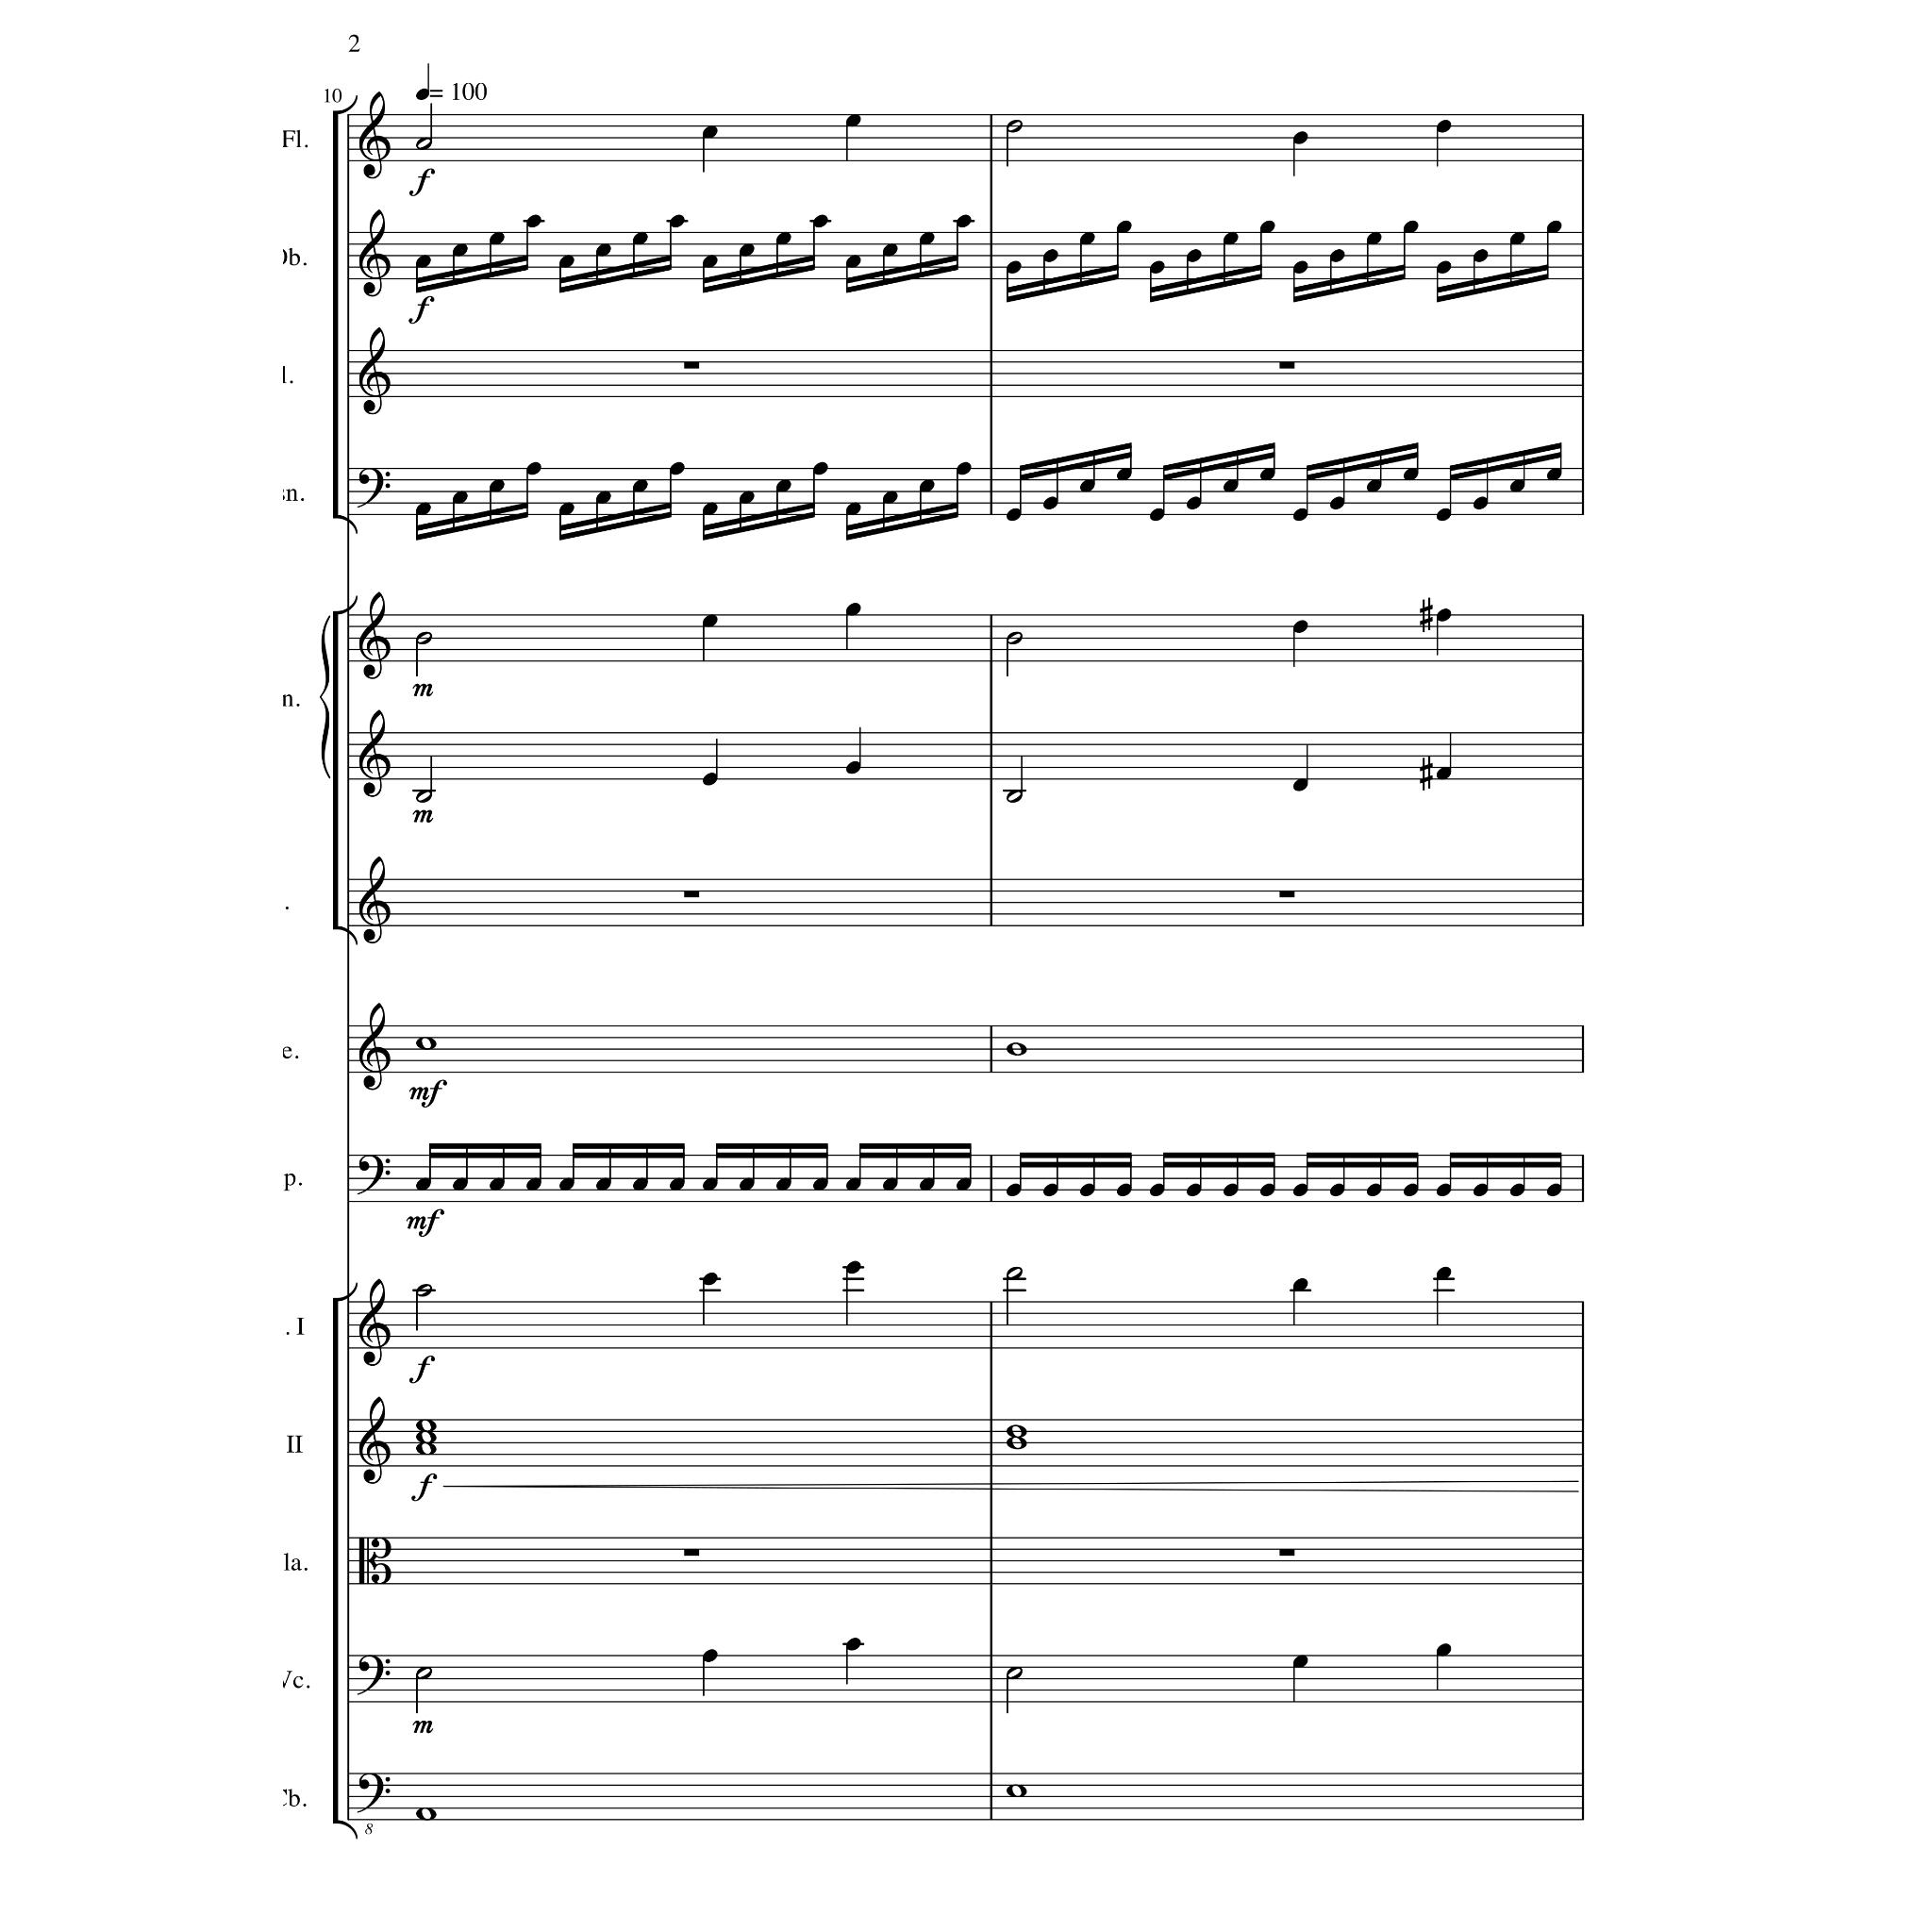brace: (318, 616, 331, 778)
fClef: (357, 467, 391, 508), (357, 1773, 391, 1813), (357, 1155, 391, 1196), (357, 1656, 391, 1695)
gClef: (359, 1277, 391, 1368), (359, 327, 391, 416), (359, 209, 391, 297), (359, 90, 391, 179), (359, 1003, 391, 1092), (359, 709, 391, 798), (359, 591, 391, 679), (359, 1396, 391, 1484), (359, 856, 391, 943)
noteheadBlack: (1185, 249, 1201, 264), (1185, 497, 1201, 511), (1185, 1184, 1201, 1198), (1116, 1184, 1132, 1198), (1148, 508, 1164, 522), (1148, 1184, 1164, 1198), (1116, 467, 1132, 481), (1292, 508, 1307, 522), (1292, 778, 1307, 793), (1292, 1184, 1307, 1198), (1292, 1277, 1307, 1292), (1292, 1654, 1307, 1668), (1223, 232, 1238, 246), (1223, 1184, 1238, 1198), (1260, 467, 1276, 481), (1260, 1184, 1276, 1198), (1042, 249, 1058, 264), (1042, 497, 1058, 511), (1042, 1184, 1058, 1198), (1079, 232, 1095, 246), (1079, 1184, 1095, 1198), (1546, 1184, 1562, 1198), (1546, 467, 1562, 481), (1509, 232, 1525, 246), (1509, 1184, 1525, 1198), (1366, 1184, 1382, 1198), (1366, 232, 1382, 246), (1403, 467, 1419, 481), (1403, 1184, 1419, 1198), (1329, 249, 1345, 264), (1329, 497, 1345, 511), (1329, 1184, 1345, 1198), (1472, 249, 1488, 264), (1472, 497, 1488, 511), (1472, 1184, 1488, 1198), (1437, 508, 1453, 522), (1437, 766, 1453, 780), (1437, 1184, 1453, 1198), (1437, 1267, 1453, 1281), (1437, 1644, 1453, 1658), (557, 502, 573, 517), (557, 255, 573, 269), (488, 232, 504, 246), (525, 462, 541, 476), (414, 502, 430, 517), (414, 255, 430, 269), (812, 462, 828, 476), (846, 1261, 862, 1276), (846, 761, 862, 775), (846, 502, 862, 517), (846, 255, 862, 269), (846, 113, 862, 127), (955, 462, 971, 476), (1005, 1184, 1021, 1198), (1005, 508, 1021, 522), (918, 232, 934, 246), (632, 232, 648, 246), (669, 462, 685, 476), (775, 232, 791, 246), (702, 502, 717, 517), (702, 255, 717, 269), (702, 1272, 717, 1286), (702, 1649, 717, 1663), (1148, 262, 1164, 274), (1116, 221, 1132, 234), (1292, 621, 1307, 633), (1292, 133, 1307, 145), (1292, 262, 1307, 274), (1223, 479, 1238, 492), (1260, 221, 1276, 234), (1079, 479, 1095, 492), (1509, 479, 1525, 492), (1546, 221, 1562, 234), (1366, 479, 1382, 492), (1403, 221, 1419, 234), (1437, 609, 1453, 621), (1437, 120, 1453, 133), (1437, 262, 1453, 274), (451, 1178, 467, 1191), (451, 492, 467, 504), (451, 244, 467, 257), (557, 1178, 573, 1191), (594, 492, 610, 504), (594, 1178, 610, 1191), (594, 244, 610, 257), (488, 1178, 504, 1191), (488, 479, 504, 492), (525, 216, 541, 228), (525, 1178, 541, 1191), (414, 1178, 430, 1191), (846, 1638, 862, 1651), (812, 1178, 828, 1191), (812, 216, 828, 228), (846, 1178, 862, 1191), (846, 603, 862, 616), (955, 1178, 971, 1191), (955, 216, 971, 228), (1005, 262, 1021, 274), (881, 1178, 897, 1191), (881, 492, 897, 504), (881, 244, 897, 257), (918, 1178, 934, 1191), (918, 479, 934, 492), (632, 479, 648, 492), (632, 1178, 648, 1191), (669, 216, 685, 228), (669, 1178, 685, 1191), (738, 244, 754, 257), (738, 492, 754, 504), (738, 1178, 754, 1191), (775, 479, 791, 492), (775, 1178, 791, 1191), (702, 773, 717, 786), (702, 616, 717, 628), (702, 126, 717, 138), (702, 1178, 717, 1191)
noteheadHalf: (1005, 632, 1023, 646), (1005, 1667, 1023, 1681), (1005, 1267, 1023, 1281), (1005, 791, 1023, 805), (416, 1667, 432, 1681), (416, 791, 432, 805), (416, 632, 432, 646), (1005, 120, 1023, 133), (416, 138, 432, 150), (416, 1284, 432, 1297)
noteheadWhole: (414, 1806, 437, 1821), (414, 1442, 437, 1456), (1005, 1785, 1026, 1799), (1005, 1424, 1026, 1438), (1005, 1437, 1026, 1451), (1005, 1042, 1026, 1056), (414, 1419, 437, 1431), (414, 1431, 437, 1444), (414, 1037, 437, 1049)
restWhole: (1279, 890, 1295, 899), (683, 890, 699, 899), (683, 363, 699, 370), (1279, 1550, 1295, 1557), (1279, 363, 1295, 370), (683, 1550, 699, 1557)
